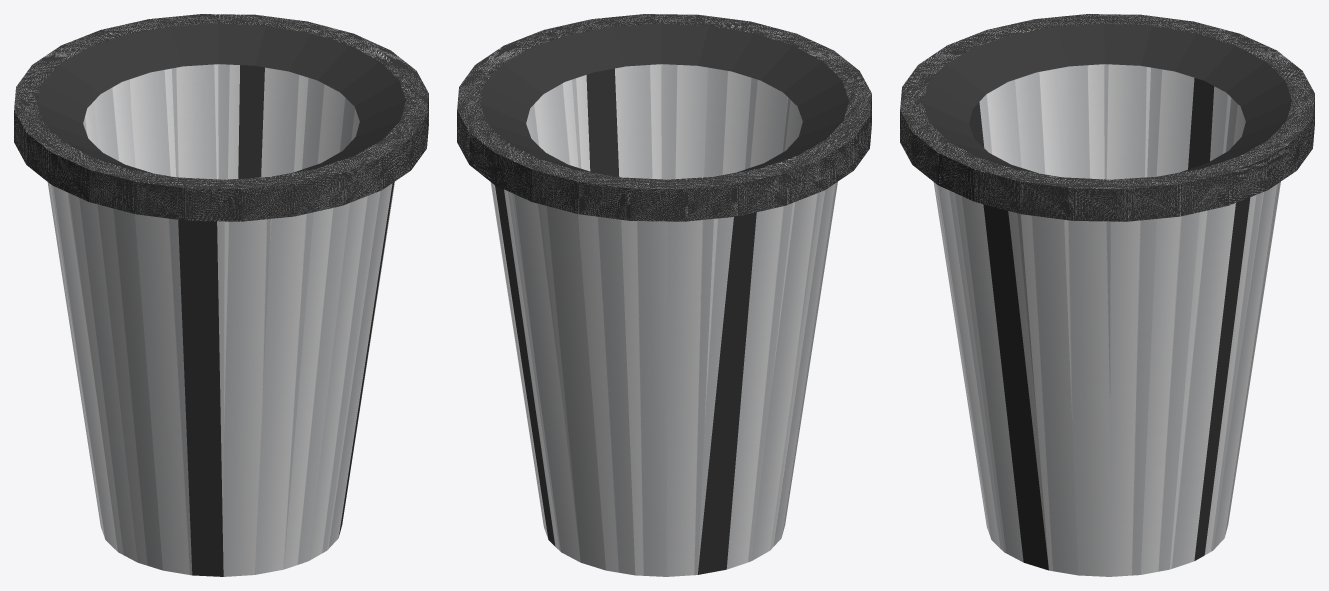
3 views of the same model, side by side, from view 1: azimuth 30°, elevation 25°; view 2: azimuth 150°, elevation 25°; view 3: azimuth 270°, elevation 25° (orthographic).
Visible parts, largest first — view 1: mesh1_mesh1-geometry; view 2: mesh1_mesh1-geometry; view 3: mesh1_mesh1-geometry.
Part boxes in pixels (x1,y1,x2,y2): mesh1_mesh1-geometry: [14, 14, 428, 576]; mesh1_mesh1-geometry: [457, 14, 871, 576]; mesh1_mesh1-geometry: [900, 14, 1314, 576].
Size of the model in its own units: 0.5526 by 0.6238 by 0.5526.
